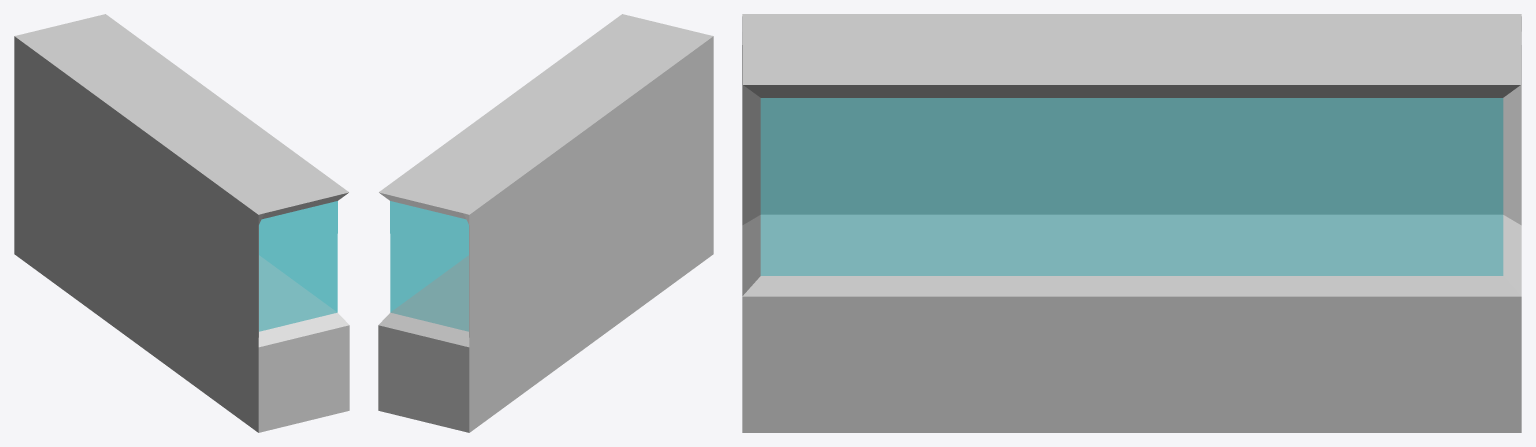
Rendered from Expositor.fbx.
The picture shows the model from 3 angles, left to right: view 1: azimuth 30°, elevation 25°; view 2: azimuth 150°, elevation 25°; view 3: azimuth 270°, elevation 25°; orthographic projection. The views are drawn at different scales.
Parts seen in each view (by area): view 1: Expositor; view 2: Expositor; view 3: Expositor.
Part boxes in pixels (x1,y1,x2,y2): Expositor: (14, 14, 349, 432); Expositor: (378, 14, 713, 432); Expositor: (742, 14, 1521, 432).
Bounding box in the file's own units: 200 × 457 × 928.
